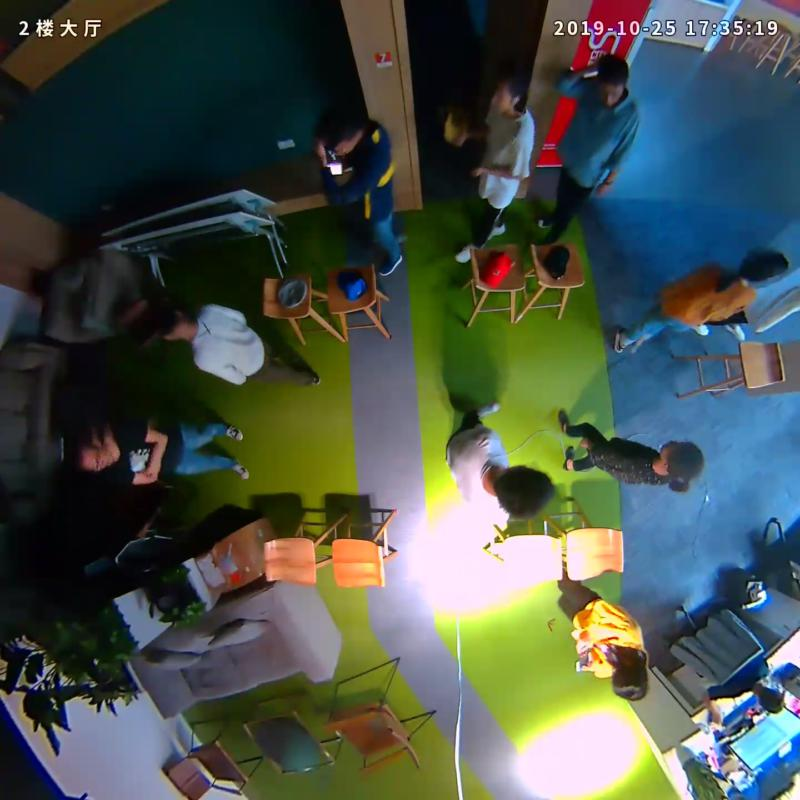head: (495, 463, 555, 521), (60, 423, 115, 473), (316, 106, 364, 157), (661, 436, 705, 488), (485, 68, 525, 115), (737, 249, 790, 283), (597, 53, 630, 106), (149, 301, 189, 340), (612, 659, 649, 700)
